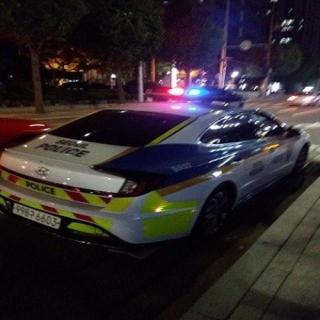Police_car: (0, 85, 312, 250)
